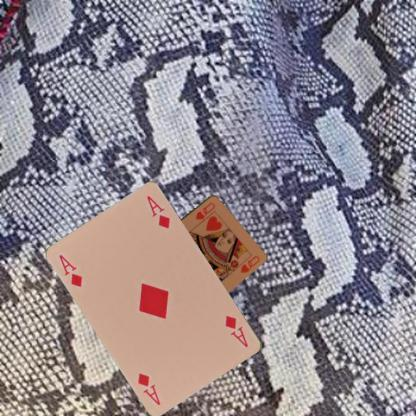Ad: (57, 251, 85, 290), (222, 313, 250, 349)
Qh: (192, 200, 216, 221)
